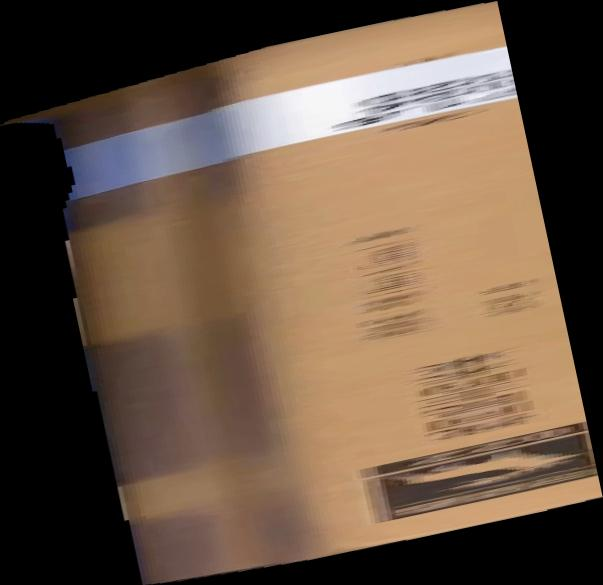reverse: (1, 1, 603, 585)
